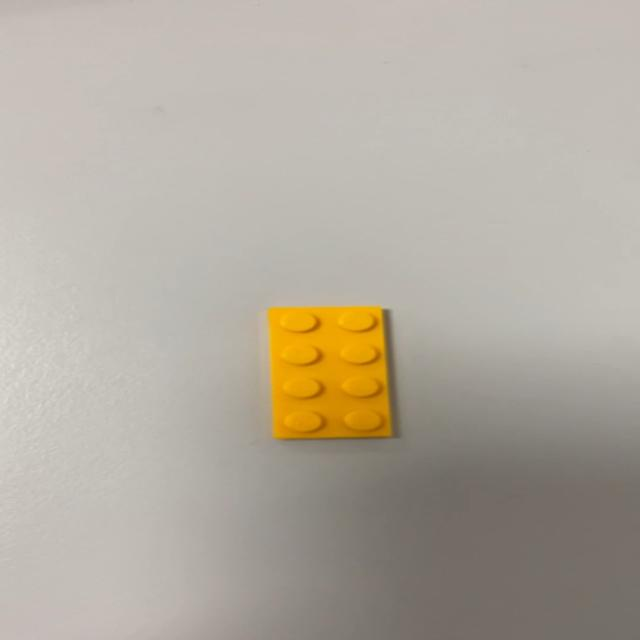C4x2x0: (260, 304, 388, 440)
